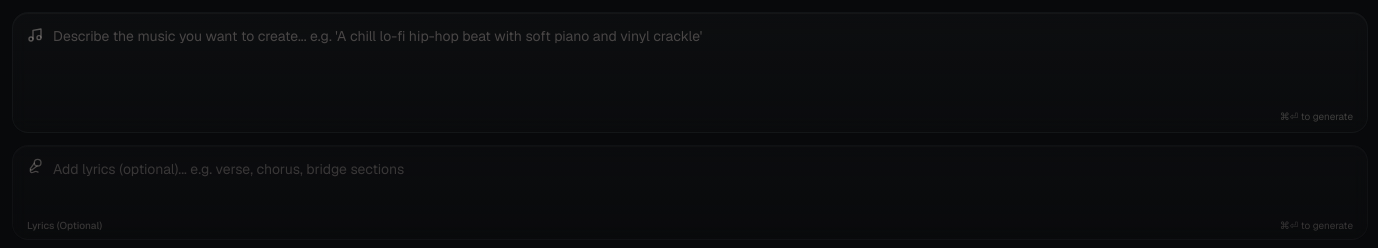
MusicPromptInput › character count › shows character count when text is entered
Type "hello" into the 1st text box. click: (690, 69)
box: 13,13 -> 1367,125
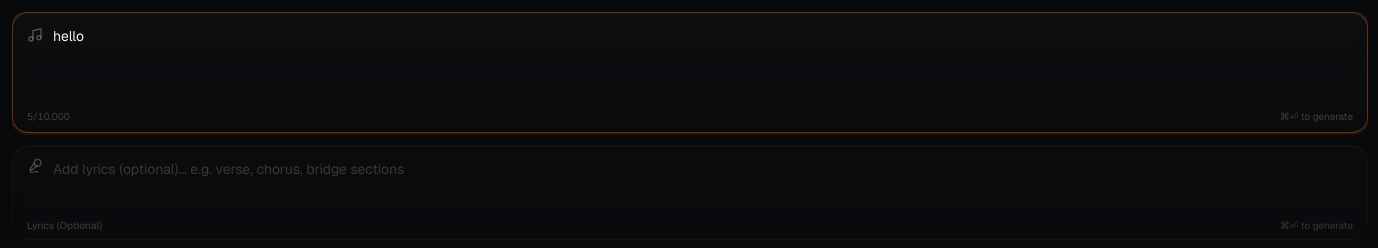
Expected: the text "5/10,000" is shown, 27,109 -> 70,124
